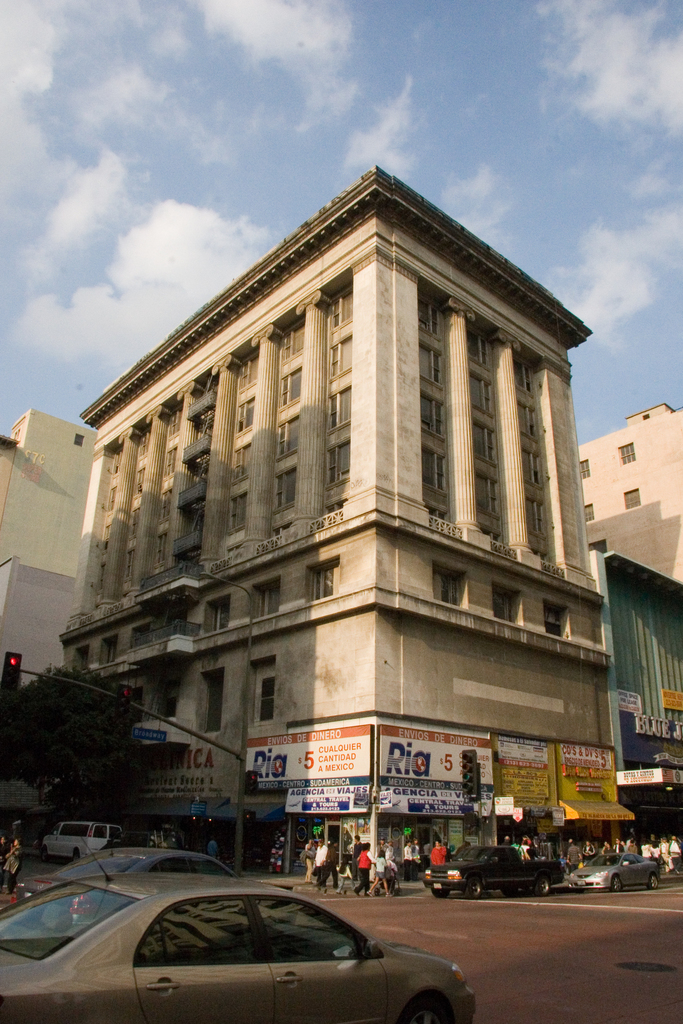Car: (0, 836, 475, 1023), (11, 838, 238, 926), (565, 850, 658, 892)
